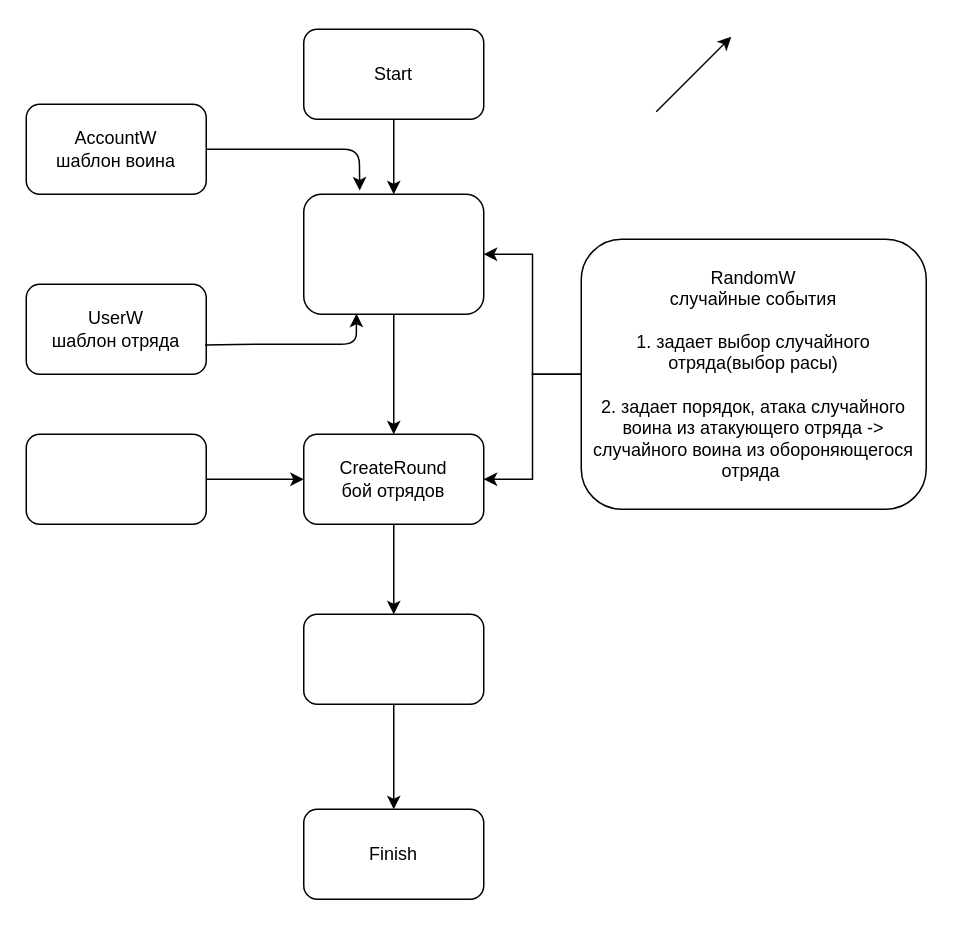
Image size: 953x926. Some labels were removed from this diagram. The shapes that lost their labels are listed below. From the top down, each one's centre as x and y in pixels, then its label:
At point 393,253: "CreateArenaW создание отряда определенной расы Elf, Human, Orc, Undead".
At point 115,478: "BattleService логика боя".
At point 393,658: "Логирование в файл".
